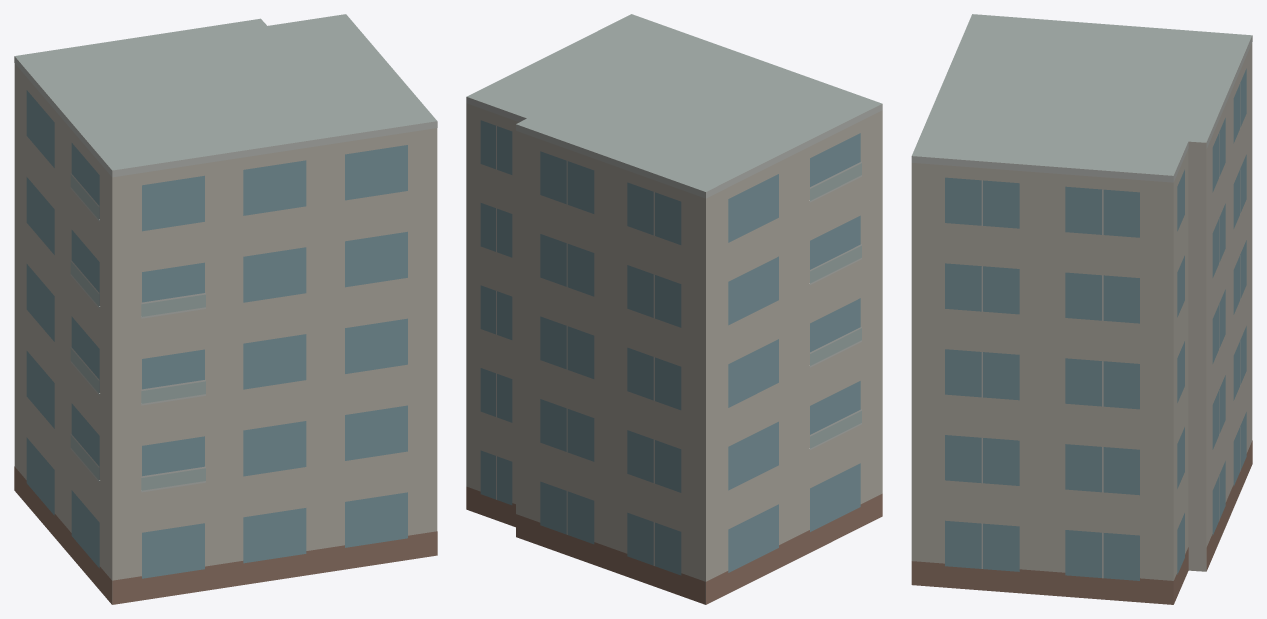
Rendered from survey-upis-32899621.glb.
3 renders of one model, left to right at view 1: azimuth 30°, elevation 25°; view 2: azimuth 150°, elevation 25°; view 3: azimuth 270°, elevation 25°, orthographic. The views are drawn at different scales.
Visible parts, largest first — view 1: survey-upis-32899621.tmp; view 2: survey-upis-32899621.tmp; view 3: survey-upis-32899621.tmp.
Part boxes in pixels (x1,y1,x2,y2): survey-upis-32899621.tmp: [14, 14, 437, 604]; survey-upis-32899621.tmp: [466, 14, 882, 604]; survey-upis-32899621.tmp: [911, 14, 1252, 604].
Bounding box in the file's own units: 12.55 × 15.5 × 11.17.
